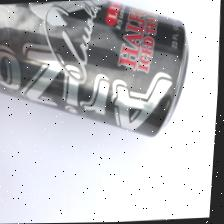metal: (0, 0, 196, 158)
